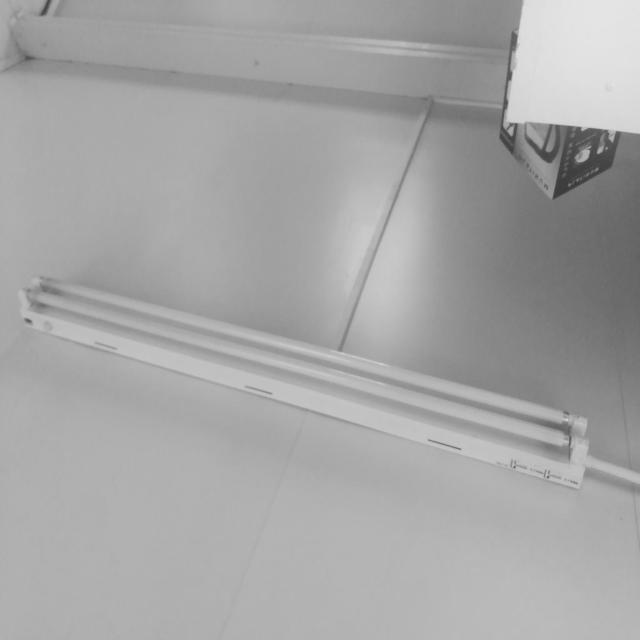light: (18, 275, 590, 493)
